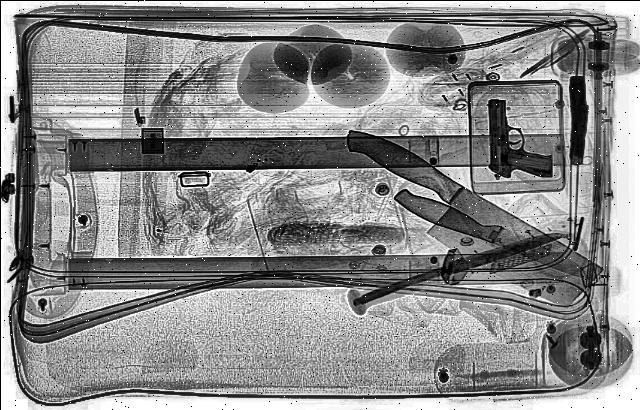Gun: (490, 100, 554, 180), (568, 76, 590, 164)
Knife: (292, 124, 630, 310), (385, 187, 611, 291), (349, 229, 569, 306)
